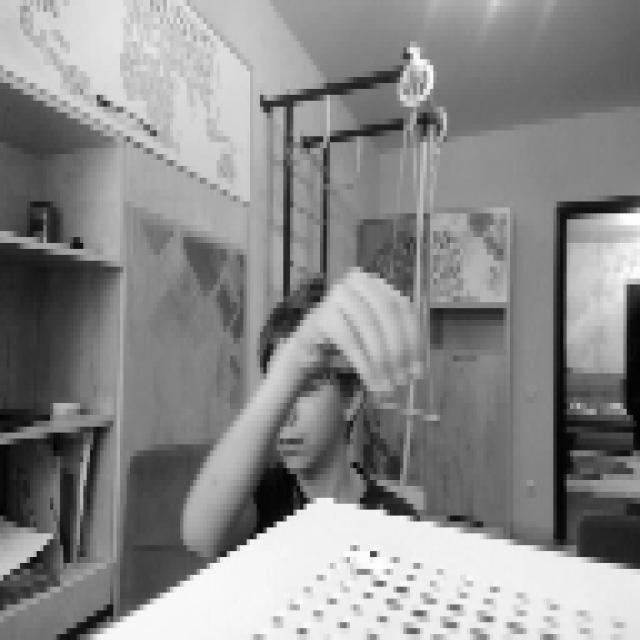left_click: (310, 255, 427, 397)
